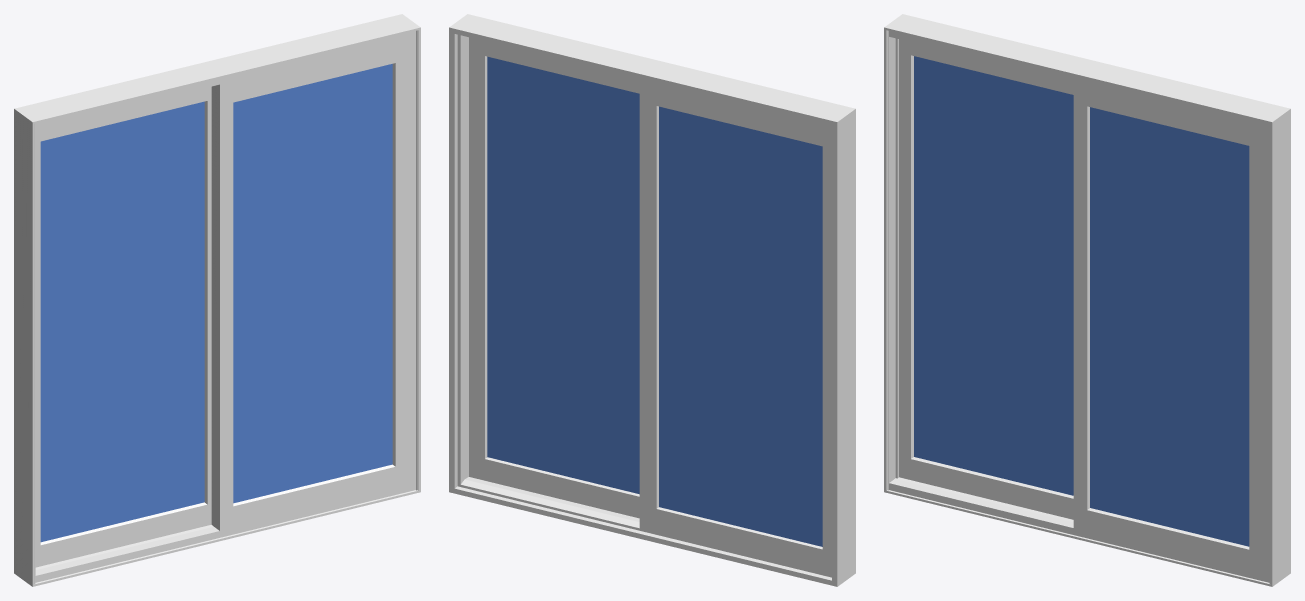
File: ProLine_Contemporary_Sliding_Door 1.fbx
The picture shows the model from 3 angles, left to right: view 1: azimuth 30°, elevation 25°; view 2: azimuth 150°, elevation 25°; view 3: azimuth 330°, elevation 25°; orthographic projection.
Parts seen in each view (by area): view 1: ProLine_Contemporary_Sliding_Door; view 2: ProLine_Contemporary_Sliding_Door; view 3: ProLine_Contemporary_Sliding_Door.
Part boxes in pixels (left/top/right/bottom): ProLine_Contemporary_Sliding_Door: left=14, top=14, right=420, bottom=586; ProLine_Contemporary_Sliding_Door: left=449, top=14, right=855, bottom=586; ProLine_Contemporary_Sliding_Door: left=884, top=14, right=1290, bottom=586.
Size of the model in its own units: 193 by 221 by 15.88.
